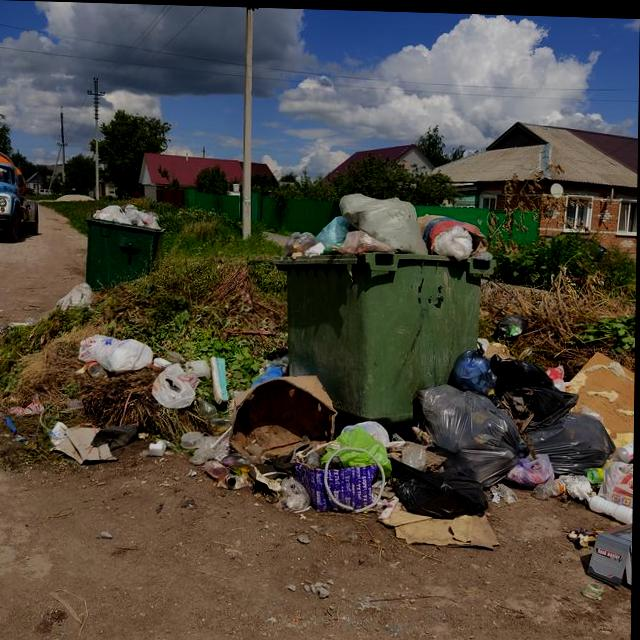Trash_Can_Full: (275, 191, 495, 424), (86, 204, 165, 288)
